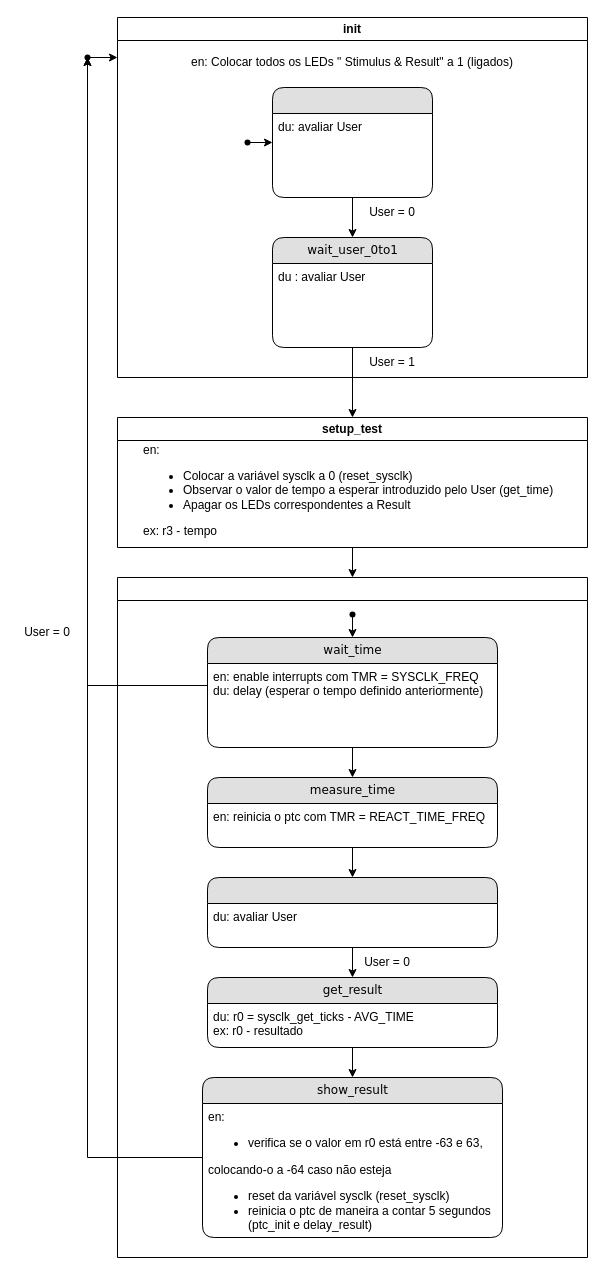
The diagram is 605 pixels wide and 1275 high, and some of its shapes have lost their labels. Here are the shapes that lost their labels. From the top down, the box of each, then its label:
(272, 86, 432, 198): wait_user_1to0
(206, 876, 498, 948): wait_user
(116, 576, 588, 1258): test
